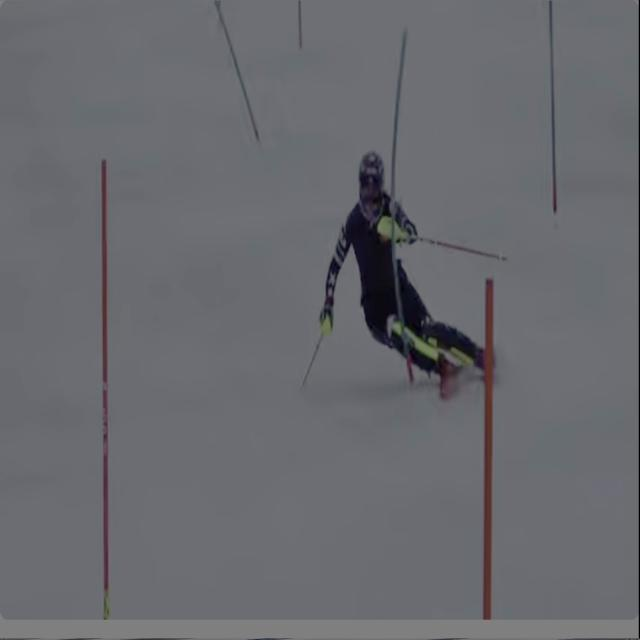gate: (458, 269, 516, 632), (91, 178, 129, 635), (530, 2, 570, 237)
